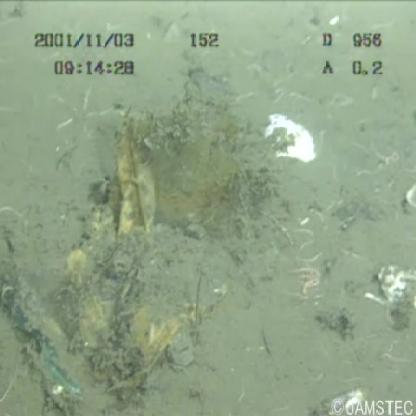Bio: (296, 261, 328, 296)
Rác: (4, 119, 214, 416)
